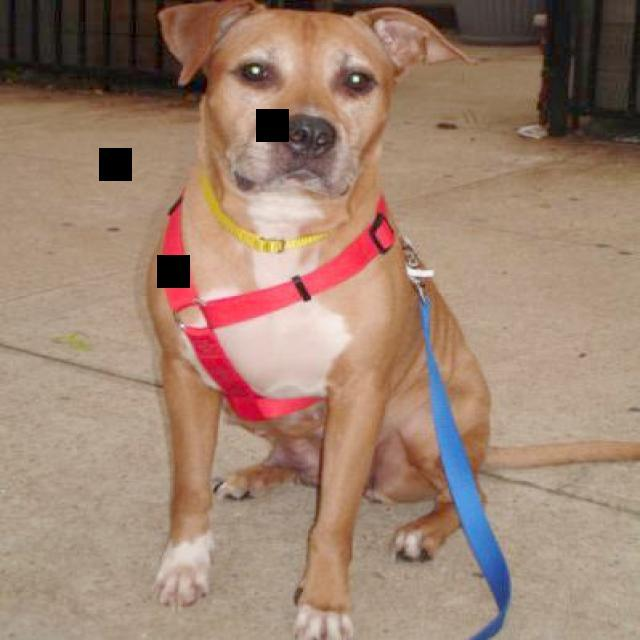adult_dog: (144, 0, 640, 635)
